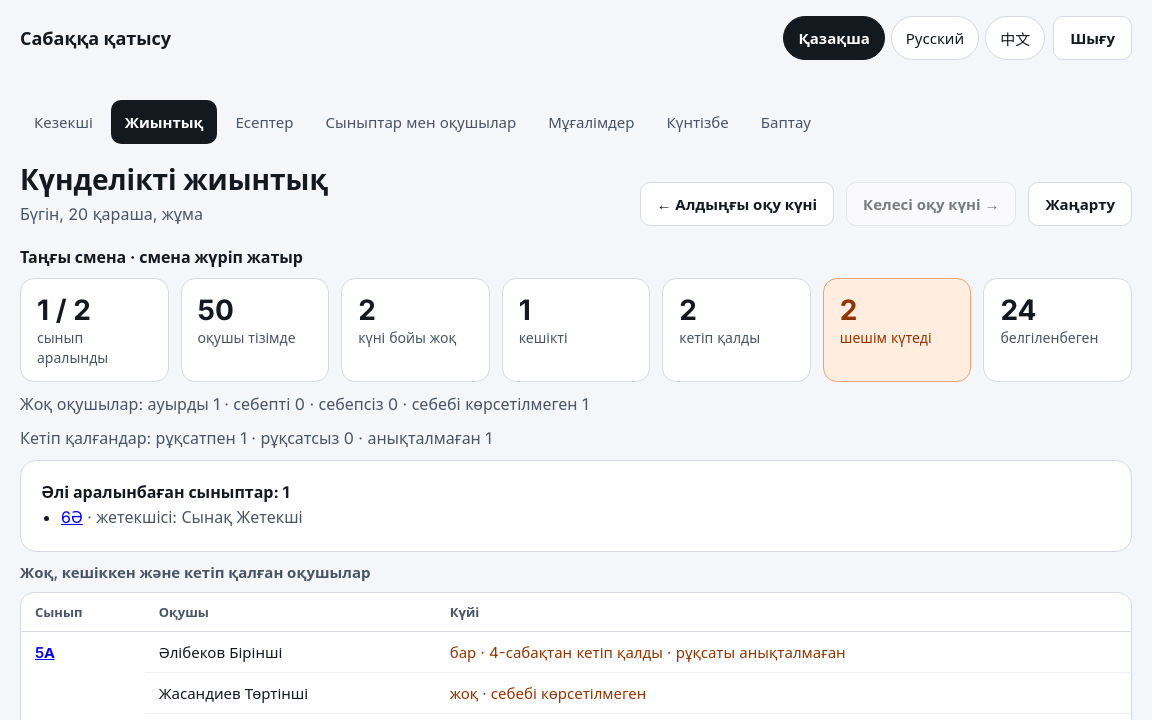
Test: күнделікті жиынтық › өткен күнге өтеді: сұраныс күнмен жіберіледі, аралынбаған сынып «аралынбады» деп көрінеді
Step 1. Click the button "← Алдыңғы оқу күні" → (737, 204), box [640, 182, 834, 226]
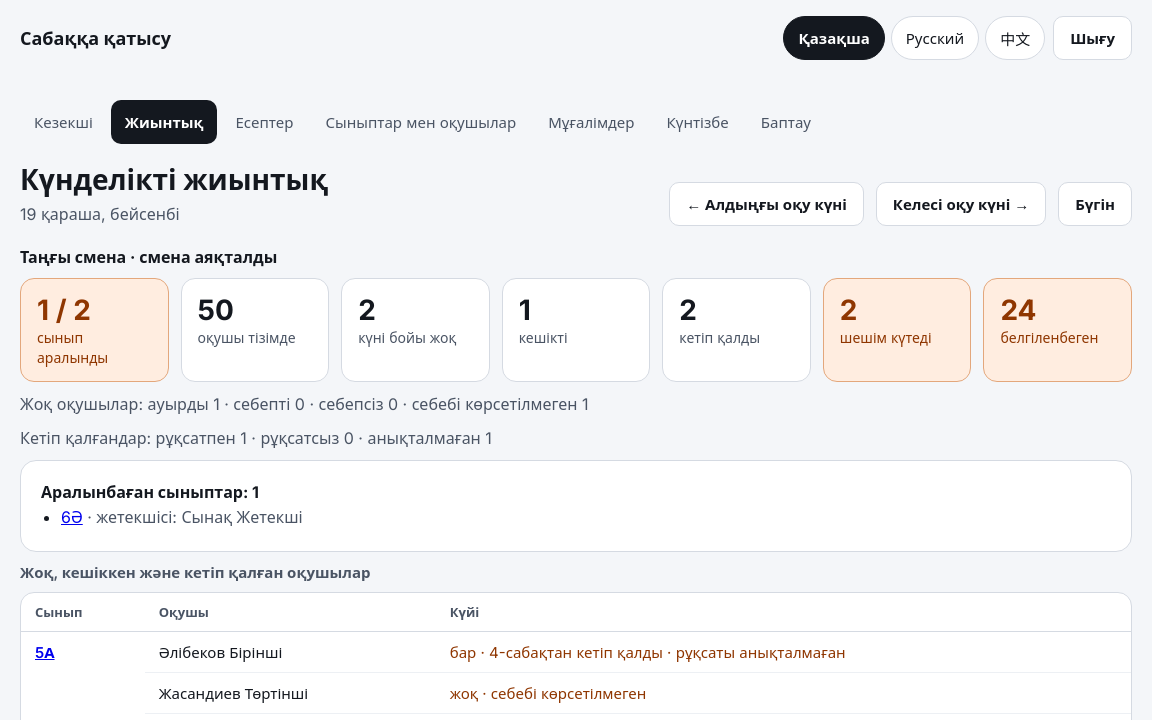
Expected: the element "Аралынбаған сыныптар: 1" is shown, [20, 460, 1132, 552]
Expected: the text "19 қараша, бейсенбі" is shown, [20, 204, 180, 224]
Expected: the heading "Таңғы смена · смена аяқталды" is shown, [20, 247, 277, 267]
Step 2. Click the button "Бүгін" → (1095, 204), box [1058, 182, 1132, 226]
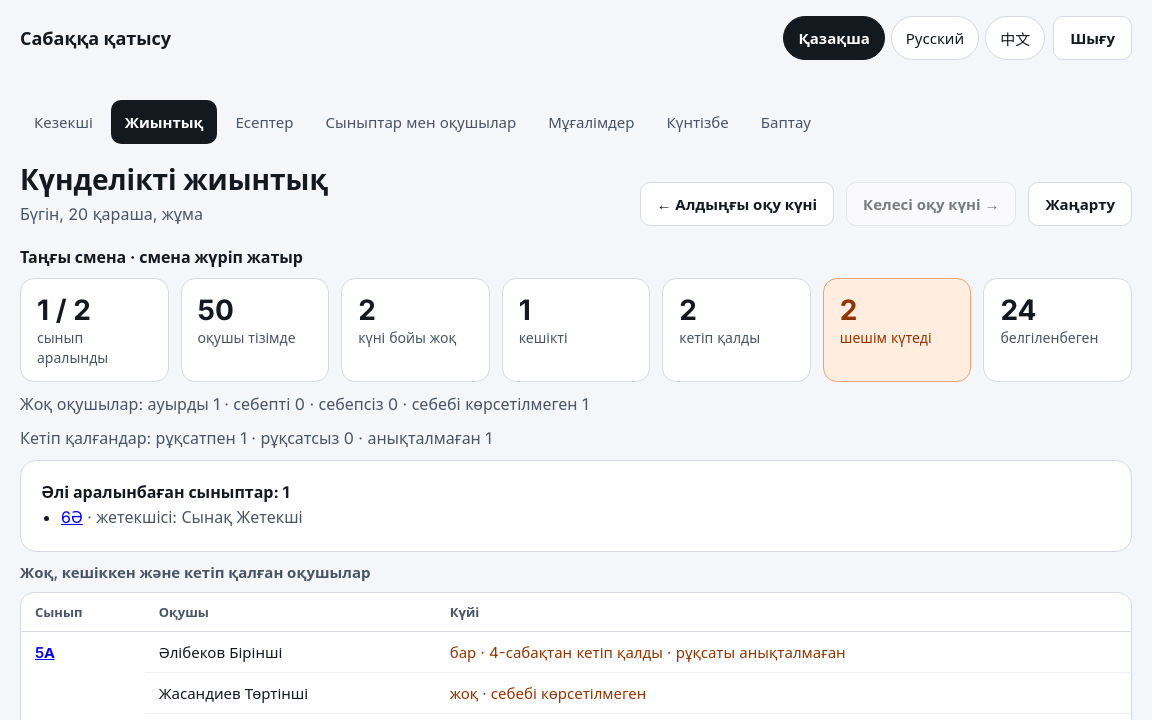
Expected: the text "Бүгін, 20 қараша, жұма" is shown, [20, 204, 203, 224]
